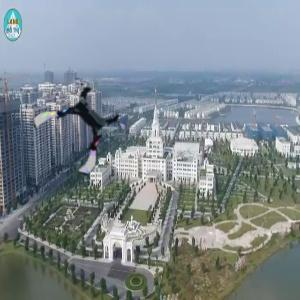drone: (41, 87, 124, 170)
